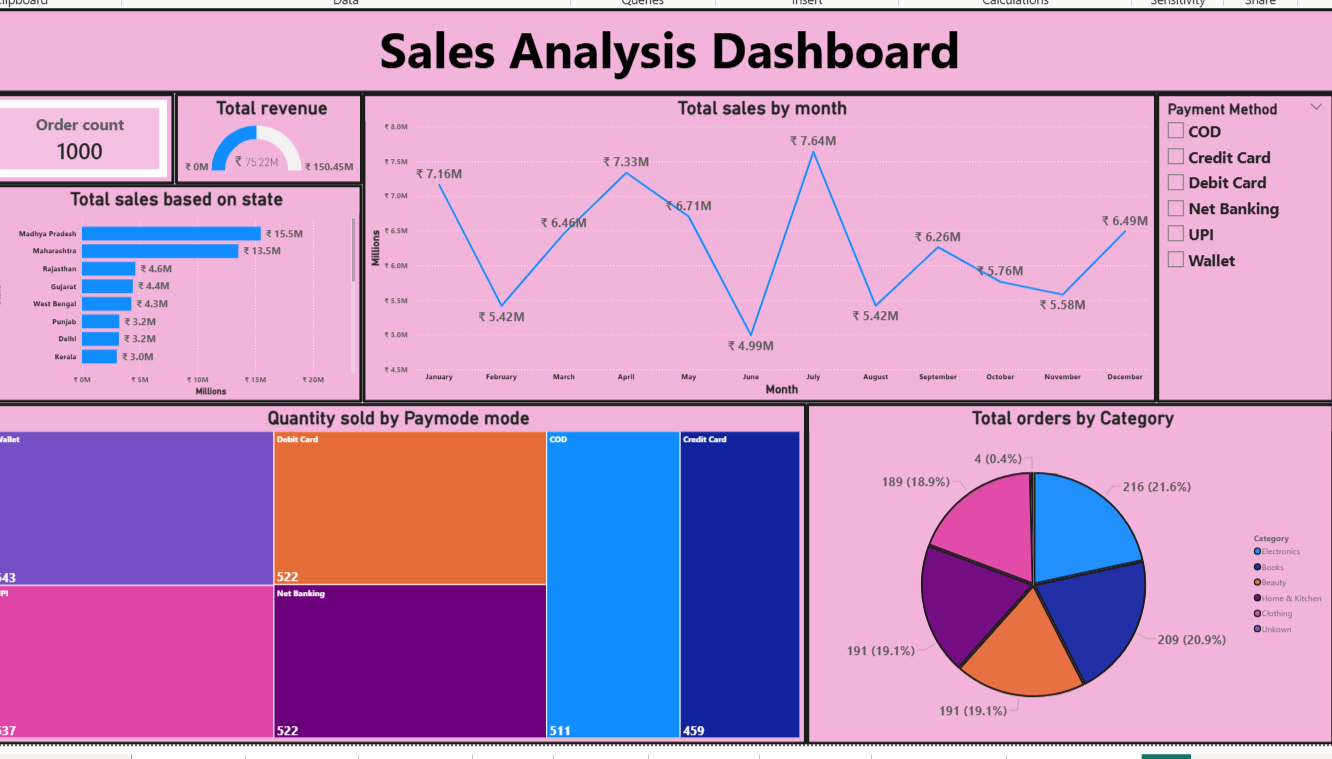

This screenshot's page, from the dashboard's own definition file:
{"tool":"powerbi","page":{"name":"Dashboard 1","canvas":[2200,1200],"ordinal":7},"visuals":[{"type":"textbox","box":[9.4,0,2191,139.2],"z":0},{"type":"cardVisual","fields":{"Data":["flipkart_sales mini project.Order count"]},"box":[0,139.2,309,148.6],"z":1000},{"type":"gauge","fields":{"Y":["flipkart_sales mini project.Total revenue"]},"box":[309,139.2,306.6,148.6],"z":2000},{"type":"clusteredBarChart","title":"Total sales based on state","fields":{"Category":["flipkart_sales mini project.State"],"Y":["Sum(flipkart_sales mini project.Total Sales (INR))"]},"box":[0,287.7,615.6,356.1],"z":3000},{"type":"lineChart","title":"Total sales by month","fields":{"Category":["flipkart_sales mini project.Order Date.Variation.Date Hierarchy.Year","flipkart_sales mini project.Order Date.Variation.Date Hierarchy.Quarter","flipkart_sales mini project.Order Date.Variation.Date Hierarchy.Month","flipkart_sales mini project.Order Date.Variation.Date Hierarchy.Day"],"Y":["Sum(flipkart_sales mini project.Total Sales (INR))"]},"box":[615.6,139.2,1294.8,504.7],"z":4000},{"type":"pieChart","title":"Total orders by Category","fields":{"Y":["flipkart_sales mini project.Order count"],"Category":["flipkart_sales mini project.Category"]},"box":[1339.6,643.9,860.9,556.6],"z":5000},{"type":"treemap","title":"Quantity sold by Paymode mode","fields":{"Values":["Sum(flipkart_sales mini project.Quantity Sold)"],"Details":["flipkart_sales mini project.Payment Method"]},"box":[0,643.9,1339.6,556.6],"z":6000},{"type":"slicer","fields":{"Values":["flipkart_sales mini project.Payment Method"]},"box":[1910.4,139.2,290.1,504.7],"z":7000}]}

Visuals, with their boxes in screenshot pixels (x1, y1, x2, y2):
textbox: box=[0, 3, 1331, 90]
cardVisual - flipkart_sales mini project.Order count: box=[0, 90, 164, 182]
gauge - flipkart_sales mini project.Total revenue: box=[164, 90, 353, 182]
"Total sales based on state" clusteredBarChart: box=[0, 182, 353, 402]
"Total sales by month" lineChart: box=[353, 90, 1155, 402]
"Total orders by Category" pieChart: box=[802, 402, 1331, 747]
"Quantity sold by Paymode mode" treemap: box=[0, 402, 802, 747]
slicer - flipkart_sales mini project.Payment Method: box=[1155, 90, 1331, 402]
